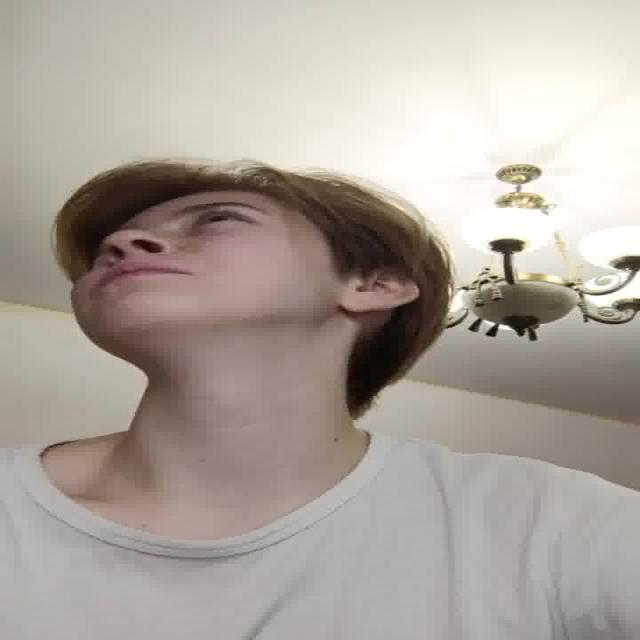earlobe: (335, 297, 388, 314)
eye: (190, 214, 252, 228)
nose: (102, 248, 170, 266)
wholeear: (342, 265, 422, 314)
